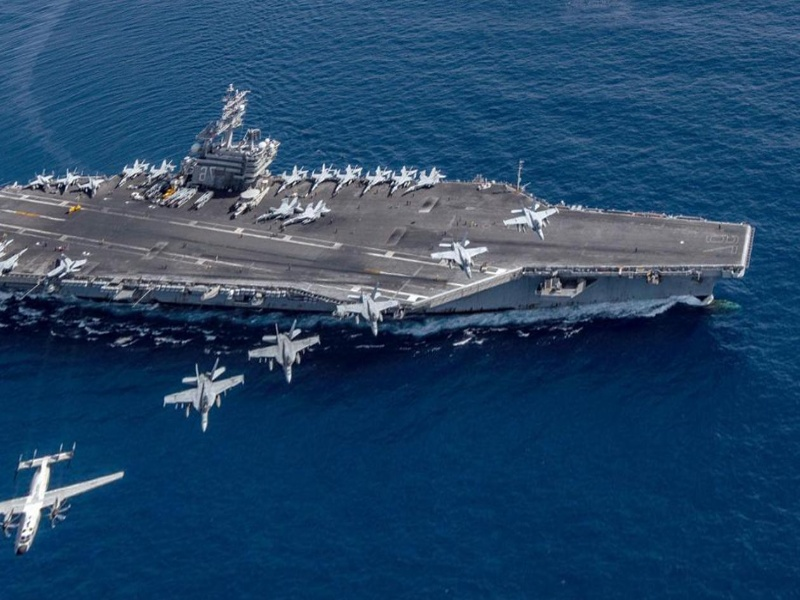carrier: (9, 107, 750, 333)
